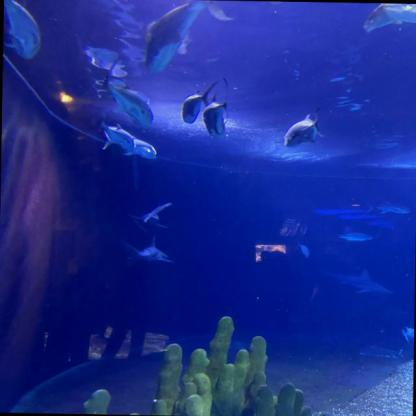fish: (140, 0, 235, 76), (2, 0, 44, 59), (104, 80, 154, 128), (182, 77, 220, 125), (130, 196, 179, 230), (283, 111, 328, 148), (362, 3, 416, 32), (98, 119, 135, 151), (202, 93, 228, 138), (121, 135, 158, 160), (332, 230, 378, 242), (402, 327, 414, 345)
shark: (322, 266, 395, 296), (121, 234, 176, 266), (366, 200, 411, 216)
stingray: (360, 345, 402, 359)
